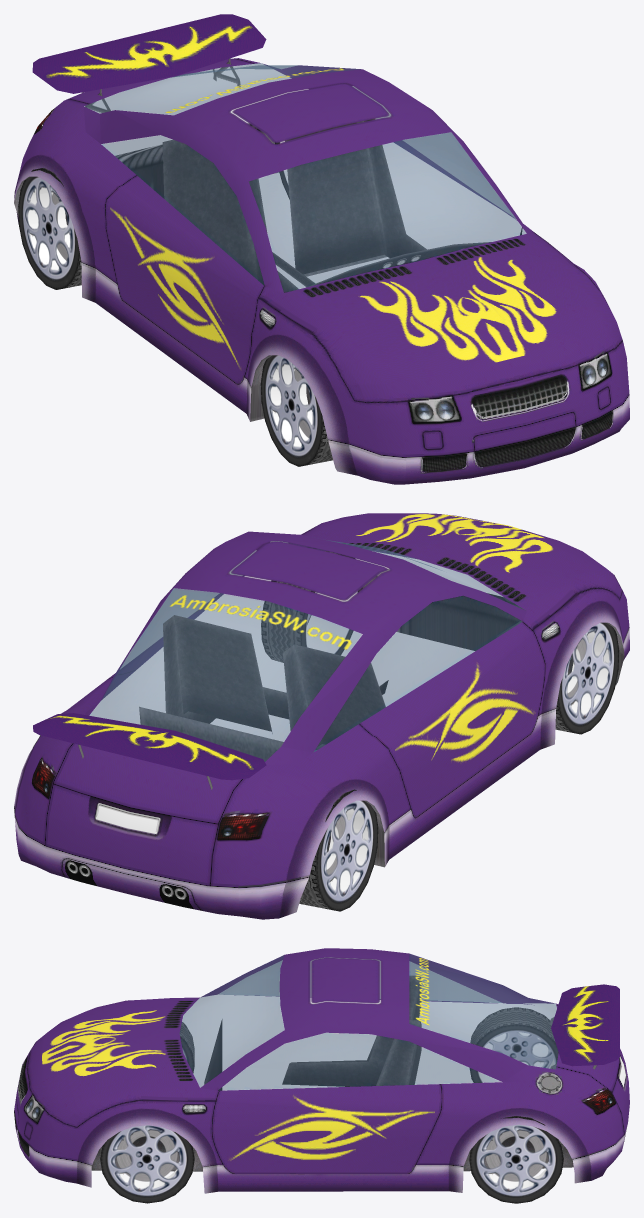
The model's file is ttpimp_d7aecea73333.glb.
3 views of the same model, one above another, from view 1: azimuth 30°, elevation 25°; view 2: azimuth 150°, elevation 25°; view 3: azimuth 270°, elevation 25° (orthographic). The views are drawn at different scales.
Parts seen in each view (by area): view 1: BODY, INTERIOR, ADDON_0, WHEEL_0, WHEEL_2; view 2: BODY, INTERIOR, ADDON_0, WHEEL_2, WHEEL_0, WHEEL_1; view 3: BODY, WHEEL_3, WHEEL_1, INTERIOR, ADDON_0, WHEEL_2, WHEEL_0.
Part boxes in pixels (x1,y1,x2,y2): BODY: (14, 58, 629, 484); INTERIOR: (162, 118, 522, 292); ADDON_0: (32, 14, 266, 112); WHEEL_0: (260, 355, 332, 466); WHEEL_2: (18, 168, 81, 289); BODY: (14, 513, 629, 919); INTERIOR: (139, 615, 388, 761); ADDON_0: (33, 713, 266, 790); WHEEL_2: (299, 789, 378, 911); WHEEL_0: (555, 622, 619, 734); WHEEL_1: (261, 551, 362, 662); BODY: (14, 948, 629, 1193); WHEEL_3: (469, 1116, 563, 1203); WHEEL_1: (100, 1125, 194, 1203); INTERIOR: (204, 975, 421, 1090); ADDON_0: (550, 984, 619, 1069); WHEEL_2: (469, 1007, 558, 1082); WHEEL_0: (179, 1022, 194, 1072).
Bounding box in the file's own units: 1.81 × 1.28 × 4.14.
Materials: 24 (24 with a texture image).
